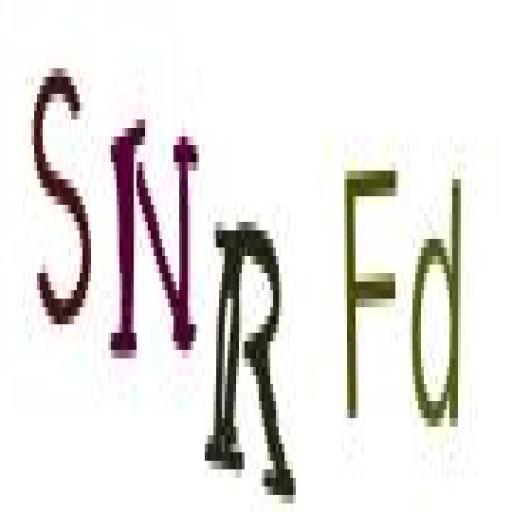F: (342, 148, 401, 441)
N: (104, 111, 202, 373)
R: (208, 204, 298, 512)
S: (27, 52, 96, 342)
d: (406, 165, 468, 454)
